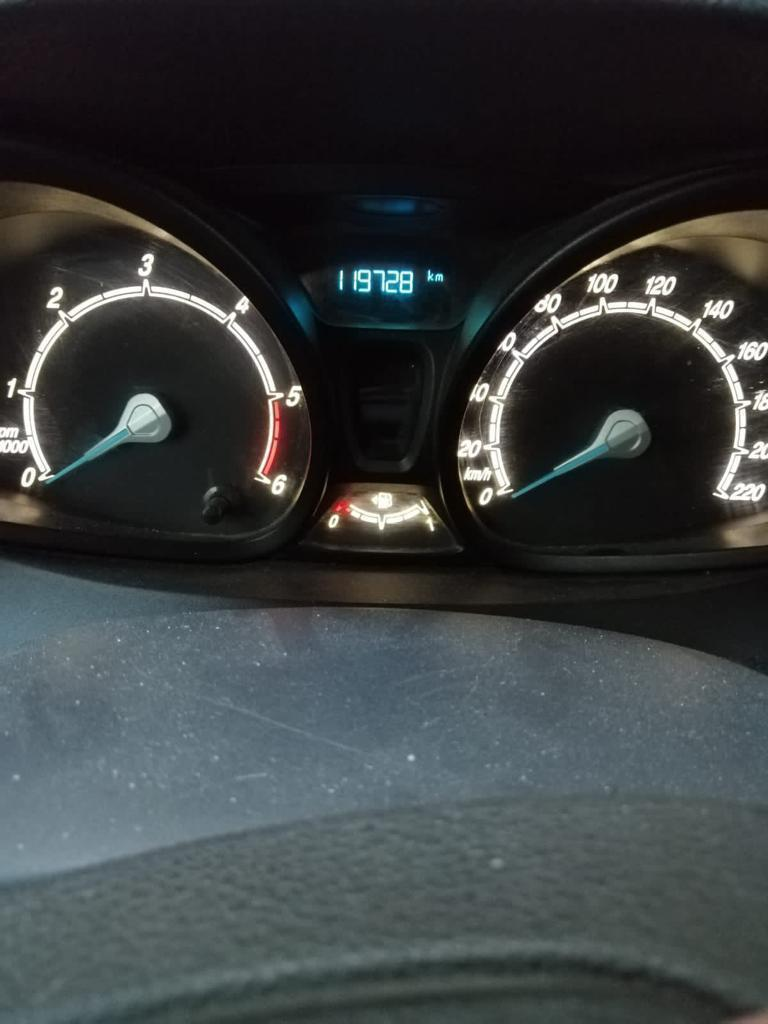1: (338, 269, 344, 292), (353, 269, 357, 293)
2: (386, 269, 399, 292)
7: (372, 268, 385, 292)
8: (400, 269, 413, 293)
9: (357, 268, 371, 292)
X: (426, 268, 434, 282), (434, 272, 443, 282)
odometer: (323, 257, 450, 310)
